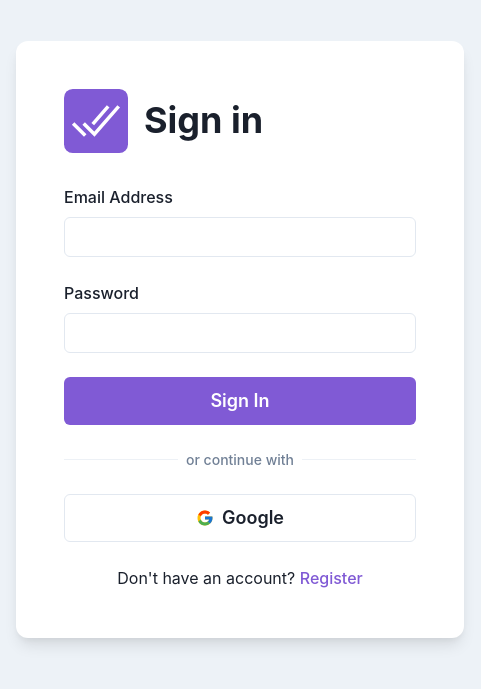
Test: Login with email and password › should show error for required fields
The width and height of the screenshot is (481, 689).
Click the button "Sign In".
click(240, 400)  # box [64,376,416,424]
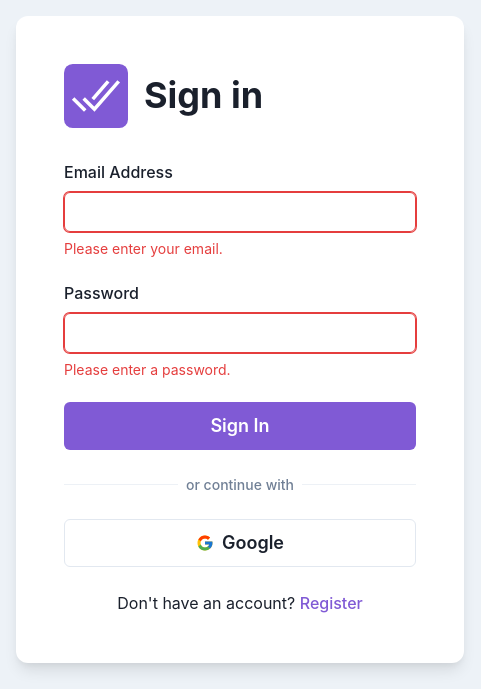
Now the text "Please enter your email." is shown, box [64,240,223,256]
Now the text "Please enter a password." is shown, box [64,360,231,378]
